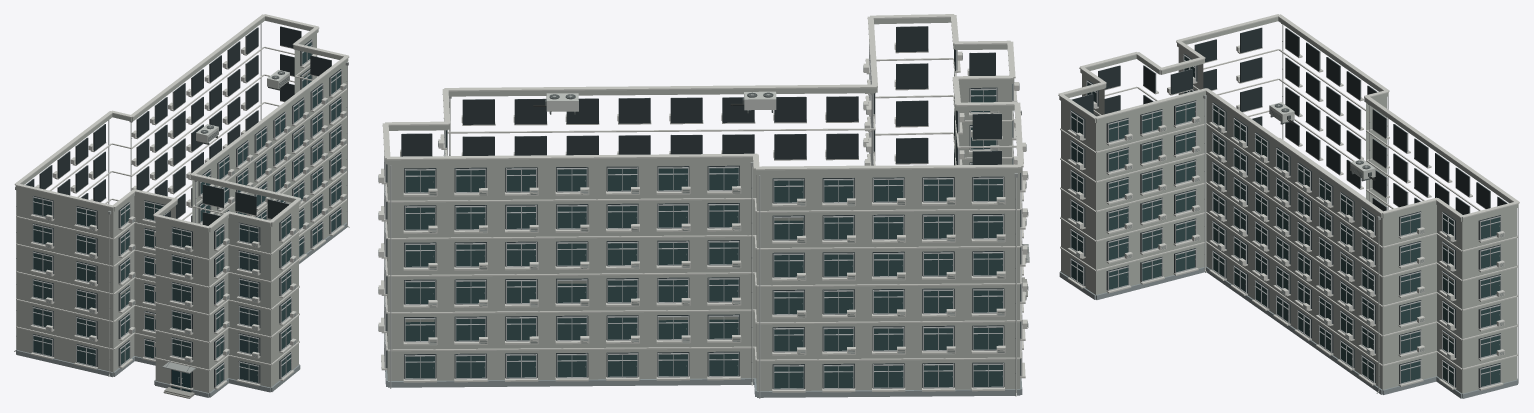
File: osm_way_225198911.glb
3 renders of one model, left to right at view 1: azimuth 30°, elevation 25°; view 2: azimuth 150°, elevation 25°; view 3: azimuth 270°, elevation 25°, orthographic. The views are drawn at different scales.
Visible parts, largest first — view 1: Architecture | 25, Windows and facade details | 25, Roof services | 25, EXTERIOR::osm_way_225198911::rainwater and roof service deta, EXTERIOR::osm_way_225198911::inferred entry doors canopy and; view 2: Windows and facade details | 25, Architecture | 25, Roof services | 25, EXTERIOR::osm_way_225198911::rainwater and roof service deta, EXTERIOR::osm_way_225198911::native pane seals and hardware; view 3: Windows and facade details | 25, Architecture | 25, Roof services | 25, EXTERIOR::osm_way_225198911::rainwater and roof service deta.
Boxes of the visible parts, left/top/right/bottom form: Architecture | 25: left=15, top=17, right=348, bottom=397; Windows and facade details | 25: left=25, top=23, right=346, bottom=390; Roof services | 25: left=14, top=14, right=349, bottom=228; EXTERIOR::osm_way_225198911::rainwater and roof service deta: left=14, top=62, right=349, bottom=376; EXTERIOR::osm_way_225198911::inferred entry doors canopy and: left=162, top=358, right=195, bottom=398; Windows and facade details | 25: left=378, top=26, right=1028, bottom=398; Architecture | 25: left=385, top=17, right=1022, bottom=397; Roof services | 25: left=382, top=14, right=1023, bottom=170; EXTERIOR::osm_way_225198911::rainwater and roof service deta: left=449, top=91, right=1021, bottom=396; EXTERIOR::osm_way_225198911::native pane seals and hardware: left=405, top=101, right=1002, bottom=378; Windows and facade details | 25: left=1067, top=27, right=1518, bottom=390; Architecture | 25: left=1059, top=17, right=1518, bottom=398; Roof services | 25: left=1058, top=14, right=1519, bottom=218; EXTERIOR::osm_way_225198911::rainwater and roof service deta: left=1203, top=23, right=1380, bottom=393.
Bounding box in the file's own units: 47.26 × 20.58 × 45.32.
